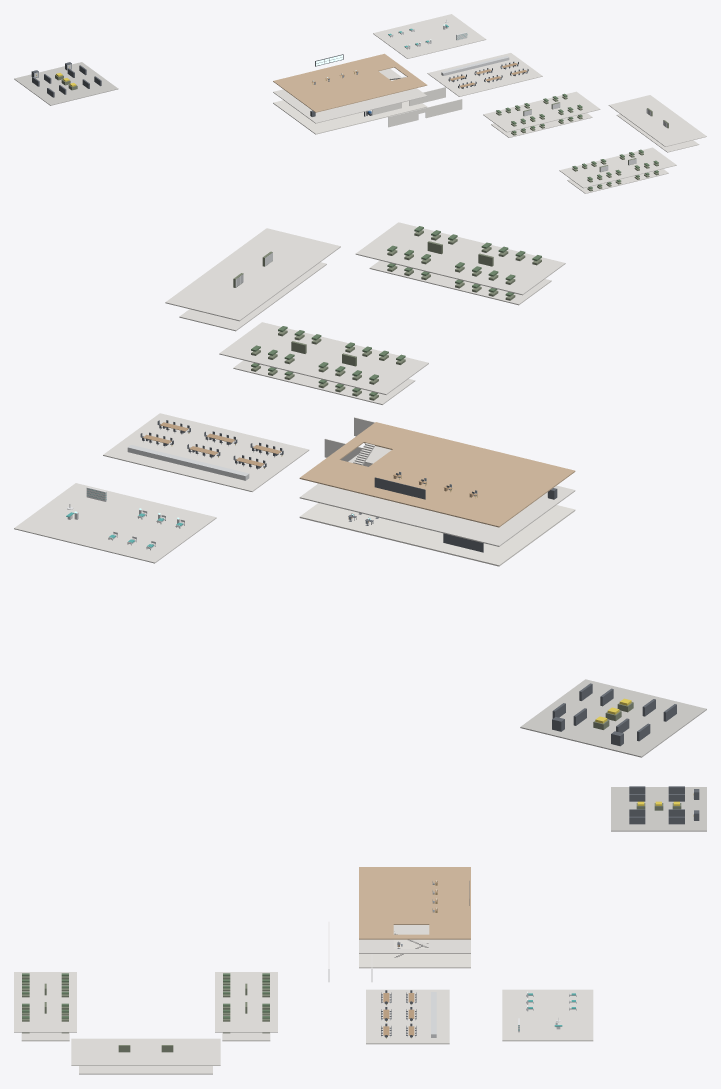
File: SM_Base_Militaire_Yopougon_Interieur.fbx
3 renders of one model, top to bottom at view 1: azimuth 30°, elevation 25°; view 2: azimuth 150°, elevation 25°; view 3: azimuth 270°, elevation 25°, orthographic. The views are drawn at different scales.
Parts seen in each view (by area): view 1: BM_02_Quartier_General_Int, BM_03_Casernes_Troupes_Int, BM_04_Mess_Infirmerie_Int, BM_05_Munitions_Logistique_Int; view 2: BM_03_Casernes_Troupes_Int, BM_02_Quartier_General_Int, BM_04_Mess_Infirmerie_Int, BM_05_Munitions_Logistique_Int; view 3: BM_03_Casernes_Troupes_Int, BM_02_Quartier_General_Int, BM_04_Mess_Infirmerie_Int, BM_05_Munitions_Logistique_Int.
Boxes of the visible parts, x1,y1,x2,y2 form: BM_02_Quartier_General_Int: (273, 53, 462, 134); BM_03_Casernes_Troupes_Int: (483, 91, 706, 193); BM_04_Mess_Infirmerie_Int: (373, 14, 542, 96); BM_05_Munitions_Logistique_Int: (14, 62, 118, 105); BM_03_Casernes_Troupes_Int: (165, 222, 565, 404); BM_02_Quartier_General_Int: (299, 417, 575, 566); BM_04_Mess_Infirmerie_Int: (14, 413, 309, 563); BM_05_Munitions_Logistique_Int: (520, 679, 706, 757); BM_03_Casernes_Troupes_Int: (14, 972, 277, 1074); BM_02_Quartier_General_Int: (328, 867, 470, 981); BM_04_Mess_Infirmerie_Int: (366, 989, 593, 1044); BM_05_Munitions_Logistique_Int: (611, 786, 706, 831).
Size of the model in its own units: 19120 by 1315 by 19320.
